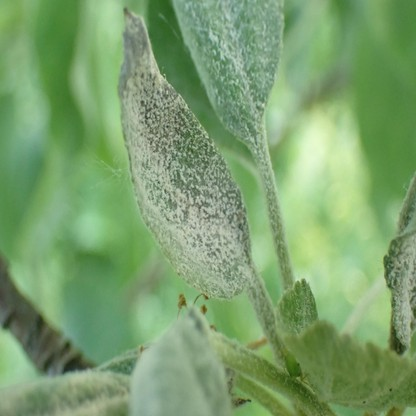powder: (118, 7, 252, 300), (176, 0, 285, 147), (278, 321, 414, 416), (128, 304, 234, 416), (2, 368, 128, 416), (383, 175, 416, 354), (275, 280, 318, 335)
